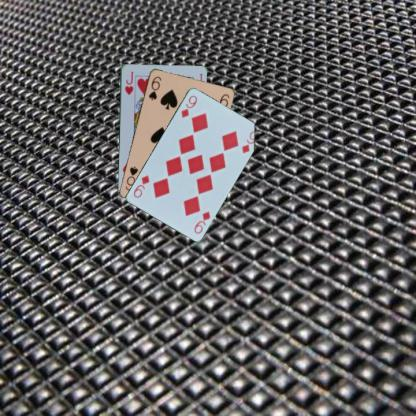6s: (146, 73, 162, 101)
9d: (178, 92, 198, 119), (192, 209, 212, 235)
Jh: (122, 69, 135, 96)
